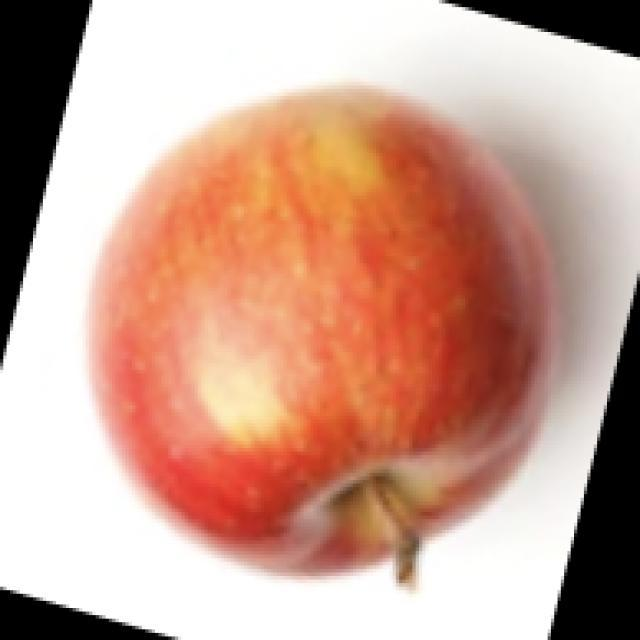Fresh Apple: (120, 93, 538, 600)
